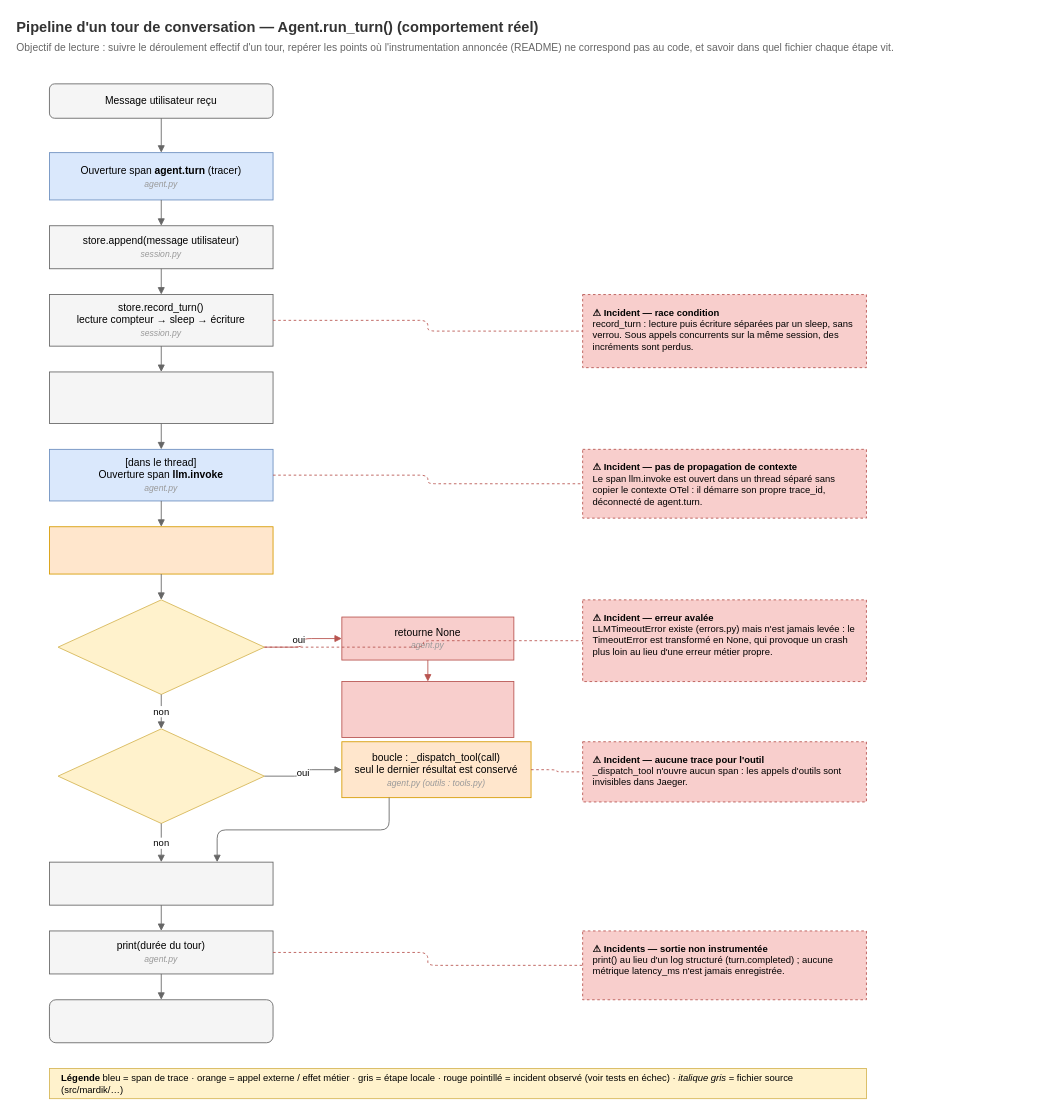
This 1061x1114 diagram has some shape labels left out. The centre of each missing label's shape, as x and y in pixels:
_invoke_llm : démarrage d'un thread worker, puis thread.join() agent.py: (x=161, y=397)
llm.invoke(historique complet) → Reply agent.py (client : llm.py): (x=161, y=550)
reply.content → AttributeError (crash, pas d'erreur métier) agent.py: (x=427, y=709)
reply.tool_calls non vide ? agent.py: (x=160, y=775)
Retour TurnResult agent.py: (x=161, y=1021)
store.append(réponse assistant) session.py: (x=161, y=883)
TimeoutError levée ? agent.py: (x=160, y=646)
